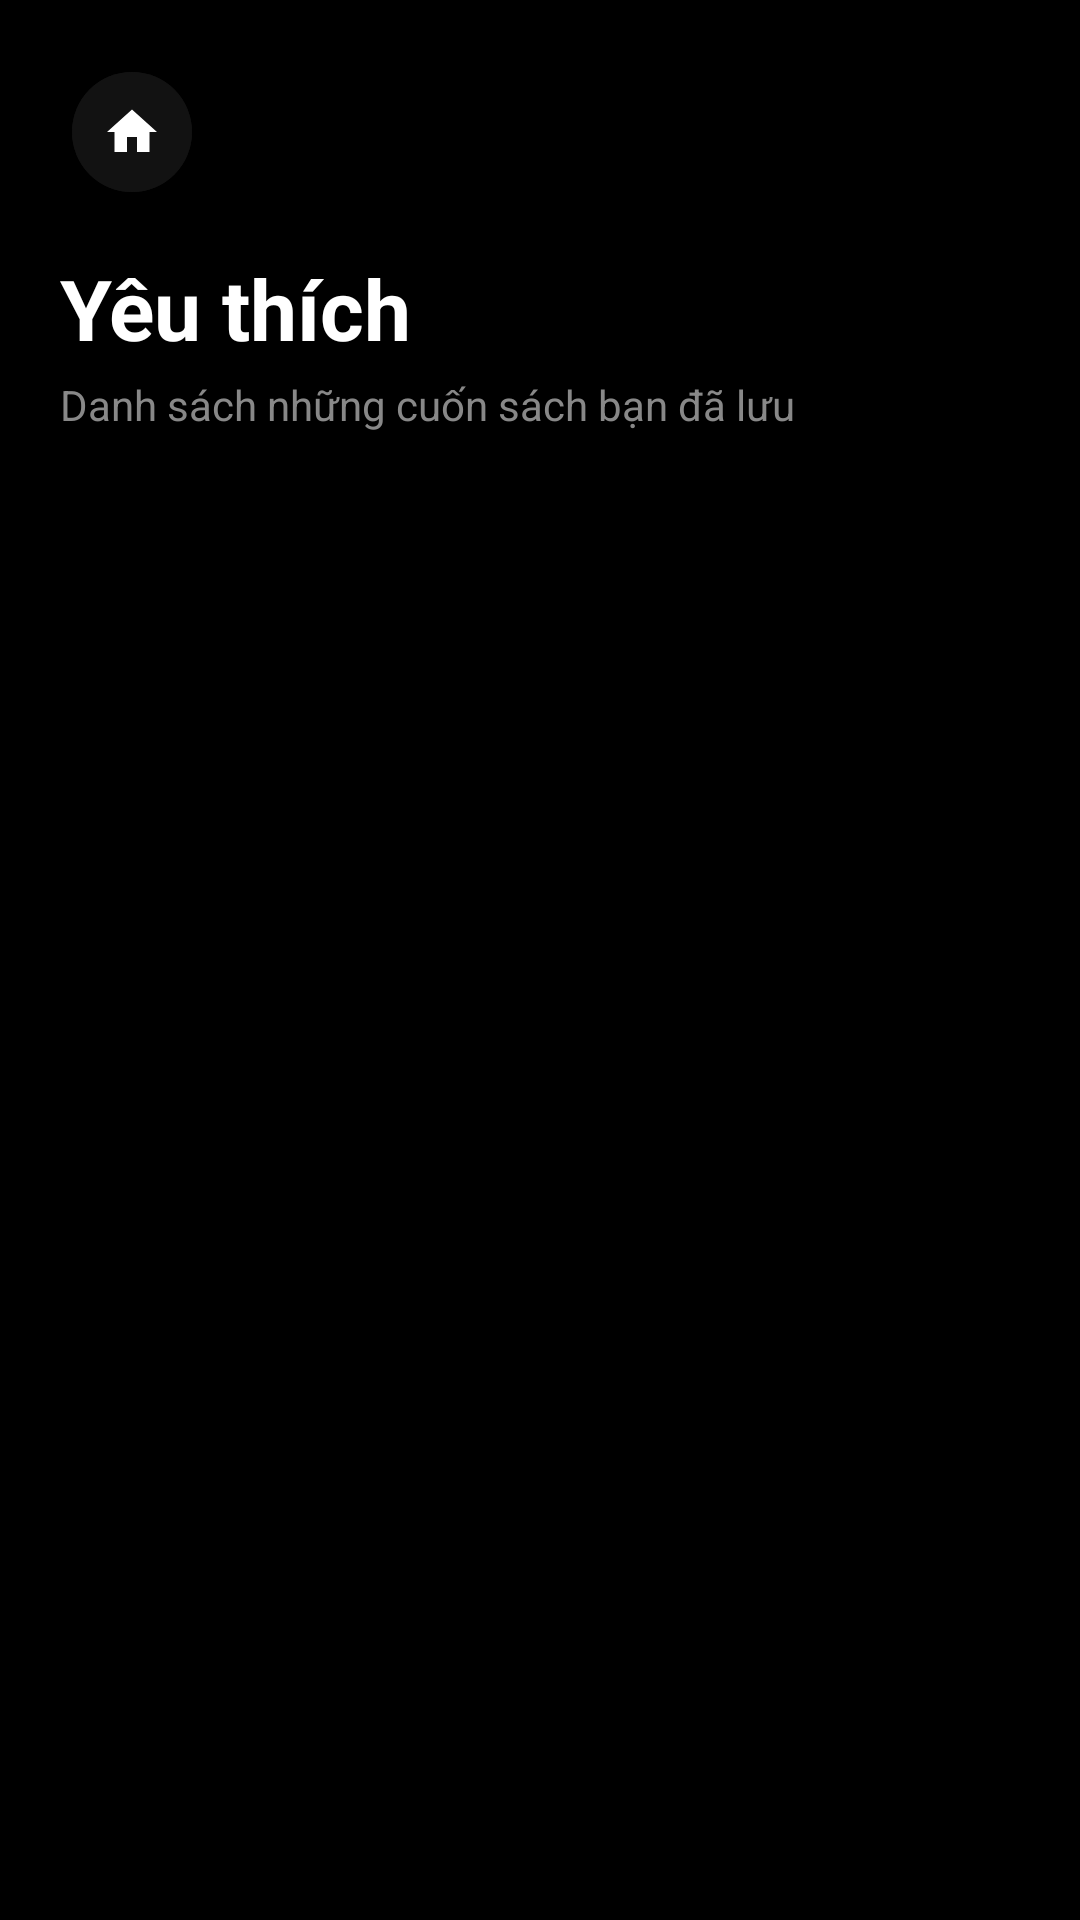

Icon click points for this 1080w x 1920h phone screenshot, format (x,y):
home: (132,130)
